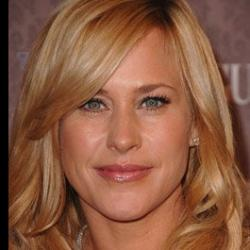face: (7, 1, 250, 248)
